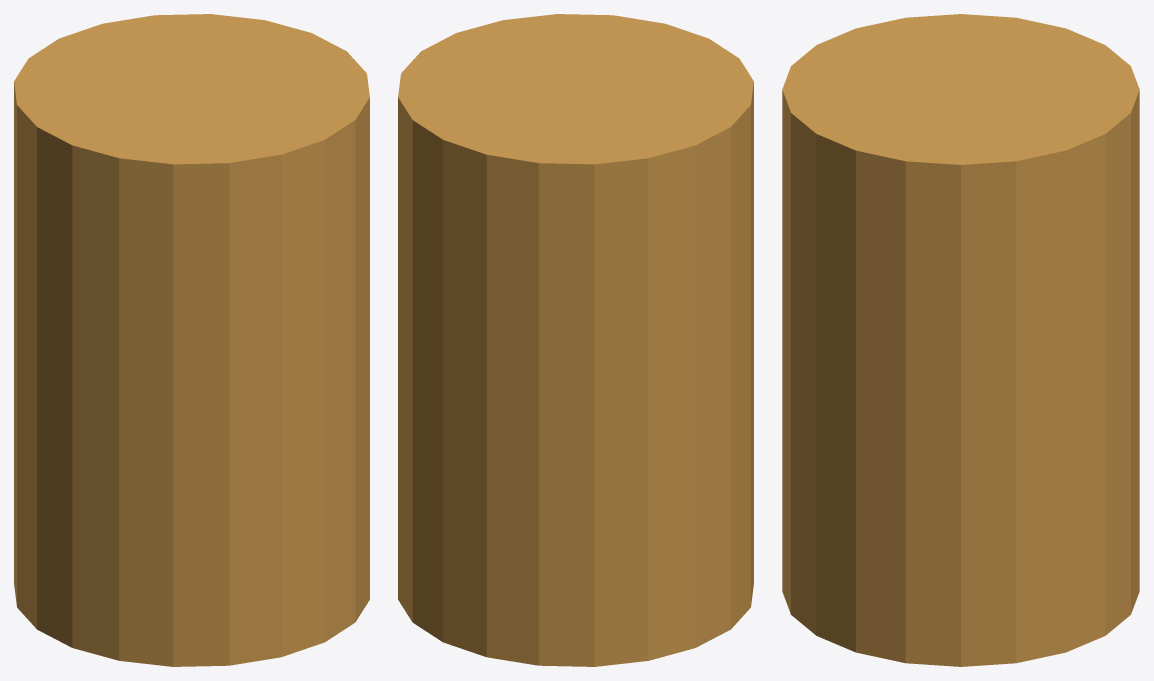
The picture shows the model from 3 angles, left to right: view 1: azimuth 30°, elevation 25°; view 2: azimuth 150°, elevation 25°; view 3: azimuth 270°, elevation 25°; orthographic projection.
Parts seen in each view (by area): view 1: Mesh_Mesh_head_geo.001_lambert2SG.001; view 2: Mesh_Mesh_head_geo.001_lambert2SG.001; view 3: Mesh_Mesh_head_geo.001_lambert2SG.001.
Part boxes in pixels (<box>): Mesh_Mesh_head_geo.001_lambert2SG.001: <box>14,14,369,666</box>; Mesh_Mesh_head_geo.001_lambert2SG.001: <box>398,14,753,666</box>; Mesh_Mesh_head_geo.001_lambert2SG.001: <box>782,14,1139,666</box>.
Bounding box in the file's own units: 20 × 31 × 20.
